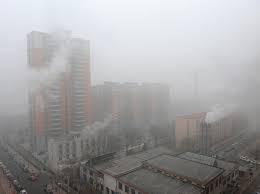smoke: (1, 0, 260, 161)
